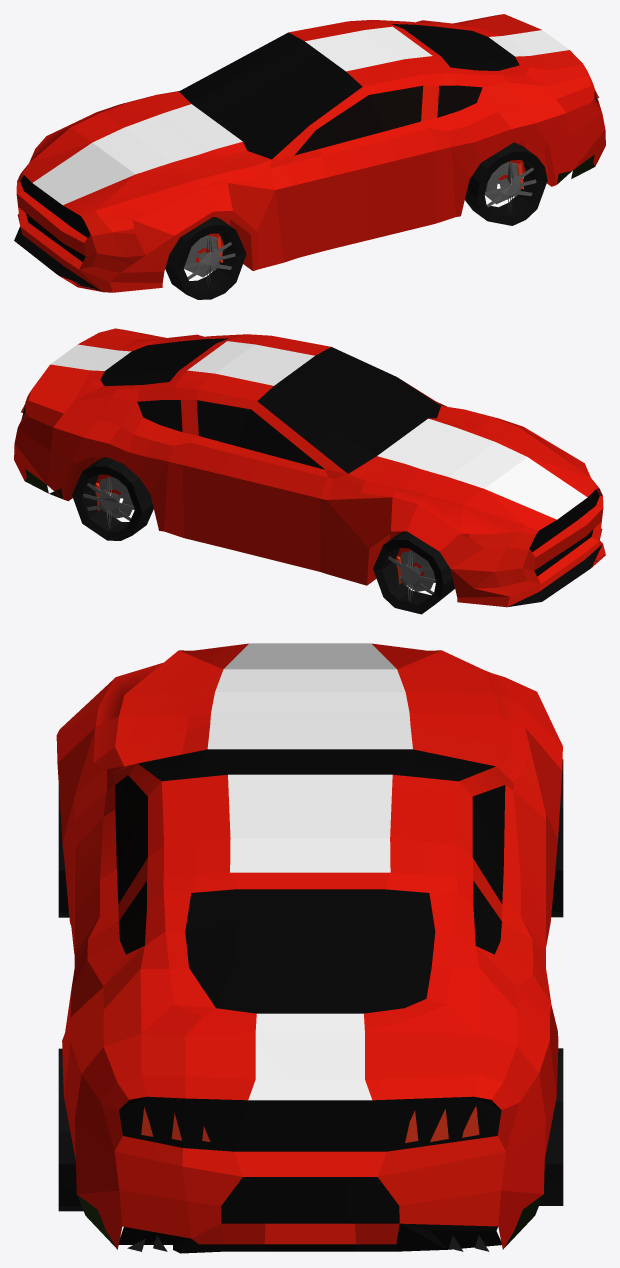
File: car.fbx
3 renders of one model, top to bottom at view 1: azimuth 30°, elevation 25°; view 2: azimuth 150°, elevation 25°; view 3: azimuth 270°, elevation 25°, orthographic. The views are drawn at different scales.
Visible parts, largest first — view 1: car1; view 2: car1; view 3: car1.
Boxes of the visible parts, <box> form: car1: <box>14,14,605,299</box>; car1: <box>14,328,605,614</box>; car1: <box>56,643,563,1253</box>.
Size of the model in its own units: 414 by 115 by 172.
1 material, 1 textured.
